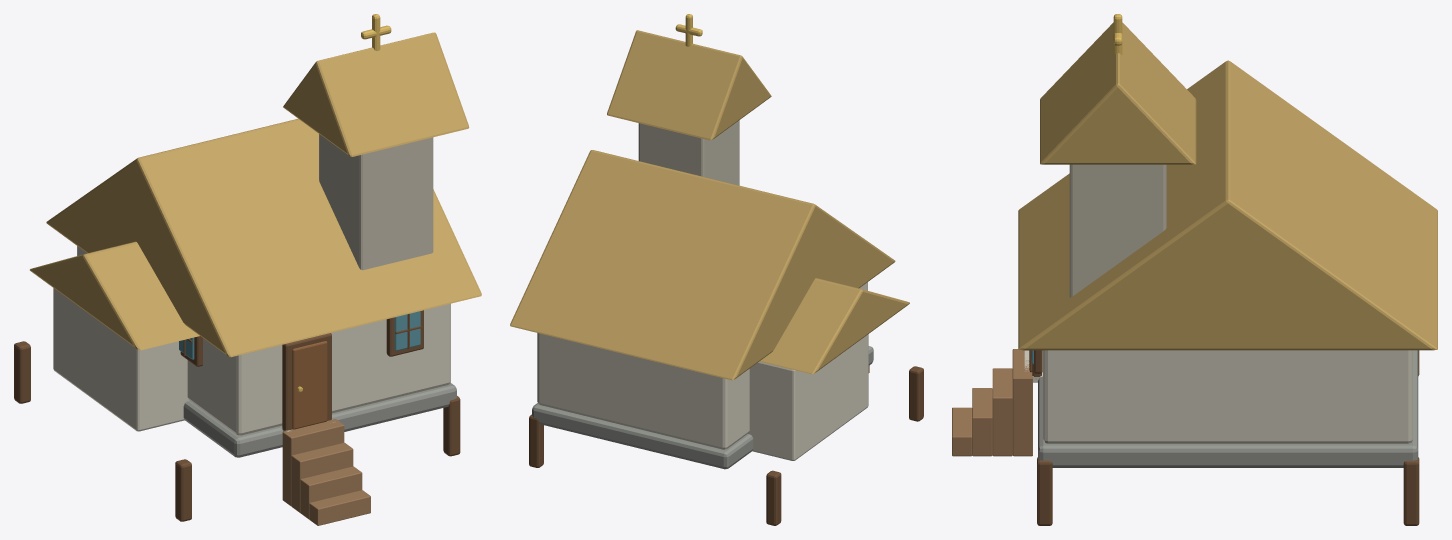
File: wetland-chapel-1.glb
3 views of the same model, side by side, from view 1: azimuth 30°, elevation 25°; view 2: azimuth 150°, elevation 25°; view 3: azimuth 270°, elevation 25° (orthographic). The views are drawn at different scales.
Visible parts, largest first — view 1: Golden thatch, Cut limestone, Warm civic stone, Aged oak, Dark beams, Foundation stone, Door oak, Blue glass, Warm brass; view 2: Golden thatch, Cut limestone, Foundation stone, Warm civic stone, Dark beams; view 3: Golden thatch, Cut limestone, Foundation stone, Warm civic stone, Aged oak, Dark beams.
Part boxes in pixels (box(x1,y1,x2,y2)): Golden thatch: box(30, 32, 481, 357); Cut limestone: box(53, 246, 450, 435); Warm civic stone: box(319, 134, 433, 270); Aged oak: box(282, 419, 370, 525); Dark beams: box(14, 310, 460, 521); Foundation stone: box(183, 383, 456, 457); Door oak: box(292, 341, 327, 429); Blue glass: box(179, 311, 420, 359); Warm brass: box(297, 14, 391, 392); Golden thatch: box(510, 30, 909, 380); Cut limestone: box(537, 282, 868, 460); Foundation stone: box(532, 346, 873, 469); Warm civic stone: box(638, 120, 739, 185); Dark beams: box(529, 366, 923, 525); Golden thatch: box(1018, 22, 1437, 350); Cut limestone: box(1024, 350, 1412, 443); Foundation stone: box(1038, 350, 1418, 467); Warm civic stone: box(1069, 164, 1166, 297); Aged oak: box(952, 349, 1032, 456); Dark beams: box(1029, 350, 1419, 525).
Bounding box in the file's own units: 4.6 × 6.07 × 5.52.
